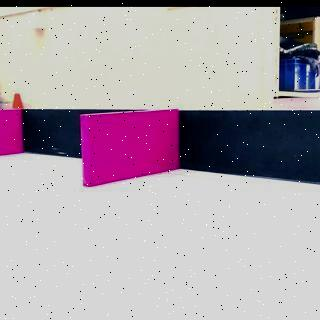xparking: (82, 114, 178, 184), (2, 111, 22, 152)
